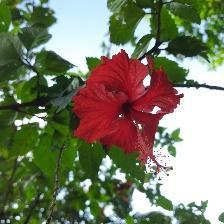hibiscus: (73, 50, 184, 183)
